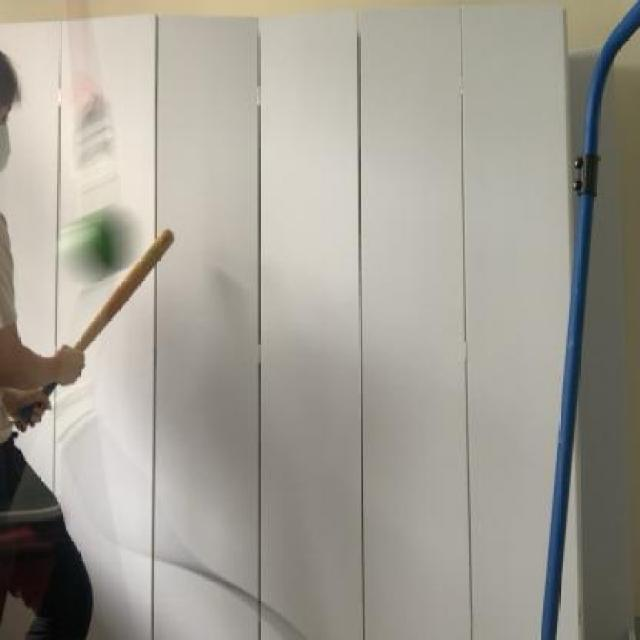baseball: (58, 191, 138, 292)
